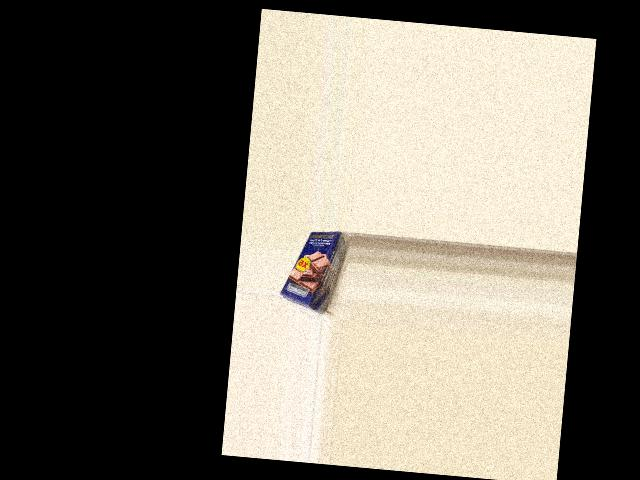chocolate: (278, 226, 346, 310)
